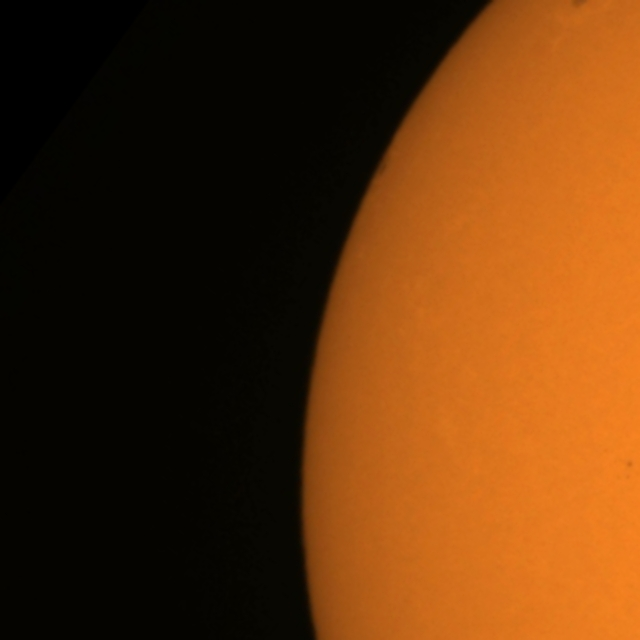sunspot: (623, 458, 636, 480), (568, 0, 590, 11)
